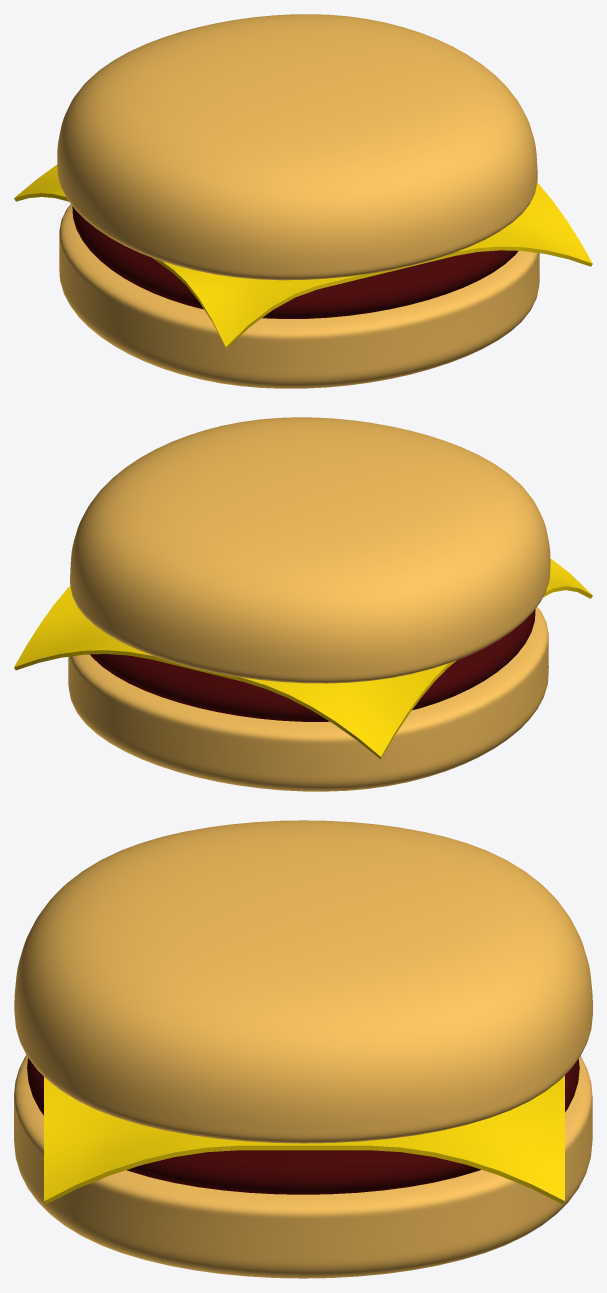
File: hamburger.glb
The picture shows the model from 3 angles, top to bottom: view 1: azimuth 30°, elevation 25°; view 2: azimuth 150°, elevation 25°; view 3: azimuth 270°, elevation 25°; orthographic projection. The views are drawn at different scales.
Visible parts, largest first — view 1: Cube.002, Cube, Cube.001, Plane; view 2: Cube.002, Cube, Plane, Cube.001; view 3: Cube.002, Cube, Plane, Cube.001.
Boxes of the visible parts, x1=… form: Cube.002: x1=57, y1=14, x2=537, y2=280; Cube: x1=59, y1=204, x2=539, y2=388; Cube.001: x1=72, y1=206, x2=518, y2=318; Plane: x1=14, y1=164, x2=592, y2=348; Cube.002: x1=70, y1=417, x2=550, y2=683; Cube: x1=68, y1=606, x2=548, y2=791; Plane: x1=14, y1=558, x2=592, y2=759; Cube.001: x1=90, y1=609, x2=535, y2=721; Cube.002: x1=14, y1=820, x2=592, y2=1143; Cube: x1=14, y1=1055, x2=592, y2=1278; Plane: x1=44, y1=1075, x2=564, y2=1204; Cube.001: x1=27, y1=1058, x2=579, y2=1194.
Bounding box in the file's own units: 9.13 × 5 × 9.09.
